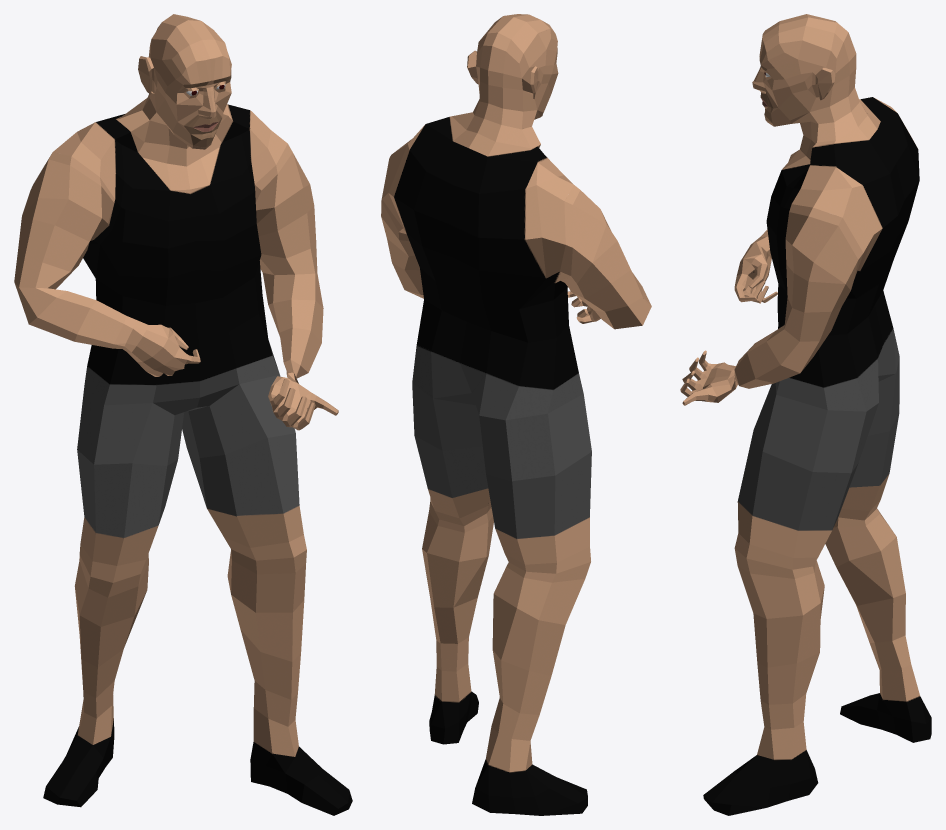
Rendered from PlayerIdle(43).obj.
3 renders of one model, left to right at view 1: azimuth 30°, elevation 25°; view 2: azimuth 150°, elevation 25°; view 3: azimuth 270°, elevation 25°, orthographic. The views are drawn at different scales.
Parts seen in each view (by area): view 1: Plane002; view 2: Plane002; view 3: Plane002.
Part boxes in pixels (bbox=[...]): Plane002: bbox=[14, 14, 352, 815]; Plane002: bbox=[381, 14, 651, 815]; Plane002: bbox=[680, 14, 931, 815].
Size of the model in its own units: 674 by 1805 by 555.
